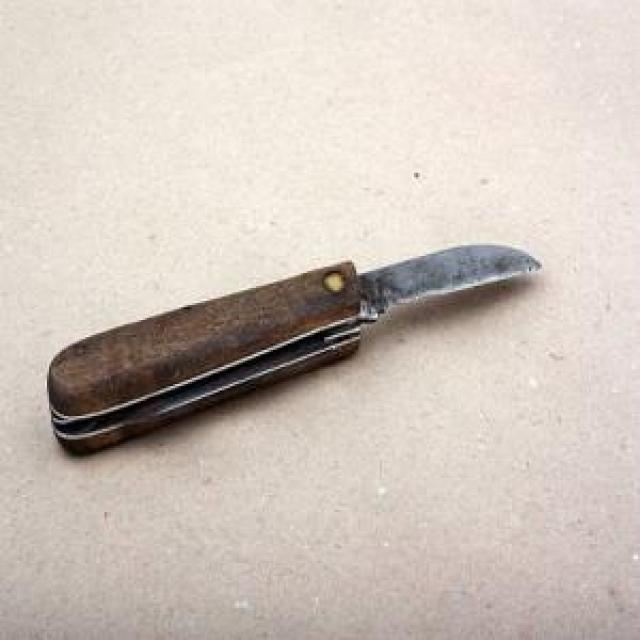knife: (49, 241, 544, 456)
